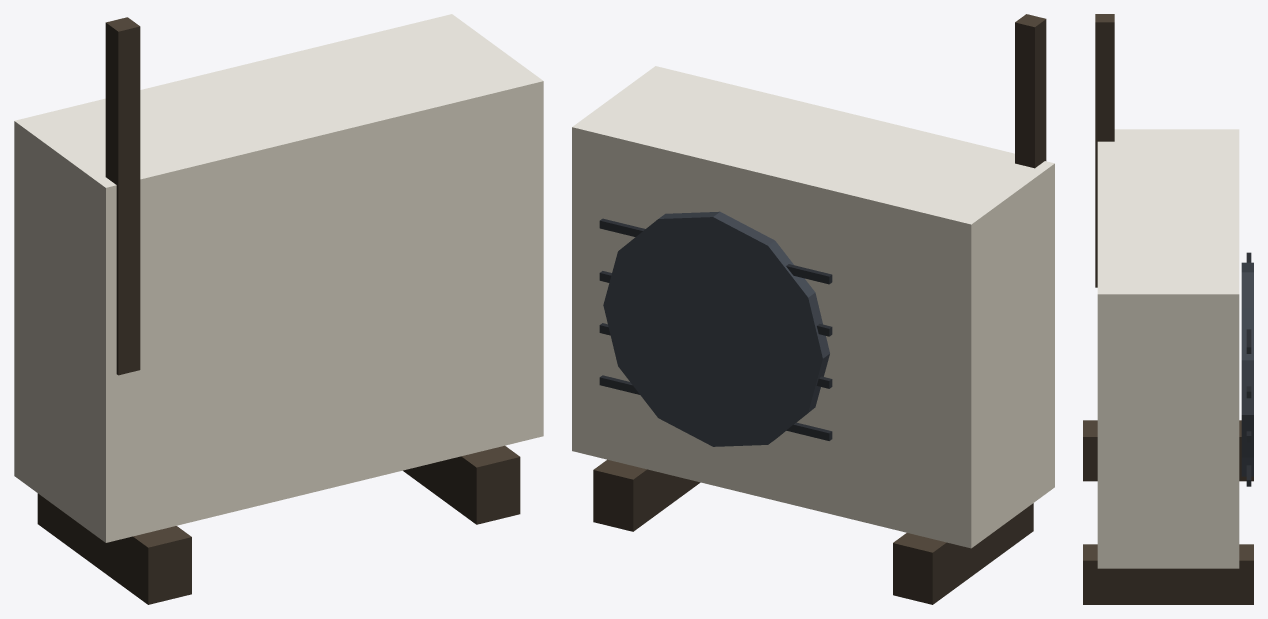
Rendered from AirConditioner.fbx.
3 views of the same model, side by side, from view 1: azimuth 30°, elevation 25°; view 2: azimuth 150°, elevation 25°; view 3: azimuth 270°, elevation 25° (orthographic). The views are drawn at different scales.
Visible parts, largest first — view 1: Body, Feet; view 2: Body, Fan, Feet, Grille; view 3: Body, Feet, Fan, Grille.
Boxes of the visible parts, bbox=[...] form: Body: bbox=[14, 14, 543, 542]; Feet: bbox=[37, 17, 520, 604]; Body: bbox=[572, 66, 1054, 548]; Fan: bbox=[603, 211, 829, 446]; Feet: bbox=[593, 14, 1046, 604]; Grille: bbox=[599, 218, 832, 440]; Body: bbox=[1097, 129, 1239, 568]; Feet: bbox=[1083, 14, 1253, 604]; Fan: bbox=[1241, 262, 1253, 476]; Grille: bbox=[1246, 252, 1251, 486].
Bounding box in the file's own units: 0.8 × 1 × 0.35.
